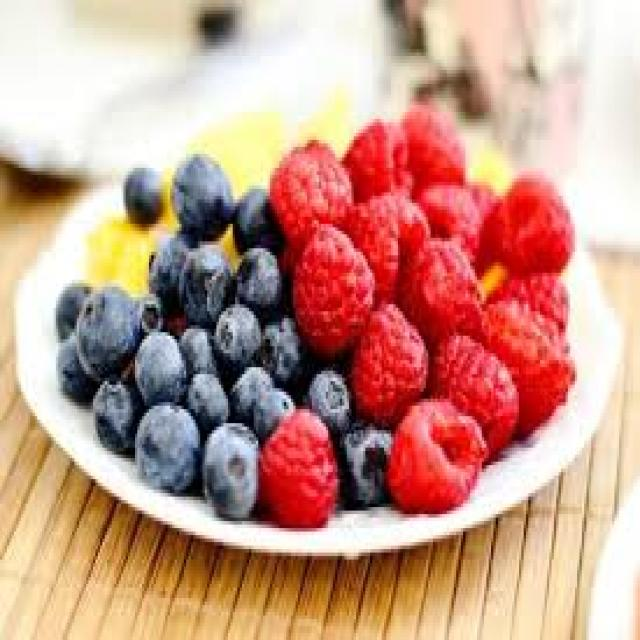organic waste: (477, 297, 573, 437), (384, 392, 484, 514), (424, 329, 514, 458), (288, 213, 372, 350), (256, 402, 335, 528), (347, 294, 426, 419), (332, 189, 423, 297), (270, 137, 347, 256), (477, 178, 568, 276), (396, 238, 486, 329), (132, 398, 198, 489), (72, 280, 135, 374), (200, 413, 258, 514), (402, 98, 460, 196), (340, 119, 410, 199), (172, 143, 230, 234), (142, 224, 200, 311), (337, 416, 391, 507), (86, 210, 149, 287), (419, 178, 479, 256), (486, 270, 568, 326), (179, 241, 233, 322), (130, 329, 186, 395), (212, 297, 260, 371), (298, 356, 347, 426), (91, 374, 135, 451), (233, 178, 279, 248), (232, 245, 282, 308), (258, 304, 300, 378), (249, 381, 296, 437), (54, 332, 93, 399), (186, 367, 226, 430), (124, 157, 166, 217), (223, 360, 270, 413), (56, 284, 93, 332), (174, 325, 212, 367), (463, 171, 496, 210), (133, 294, 163, 332)
